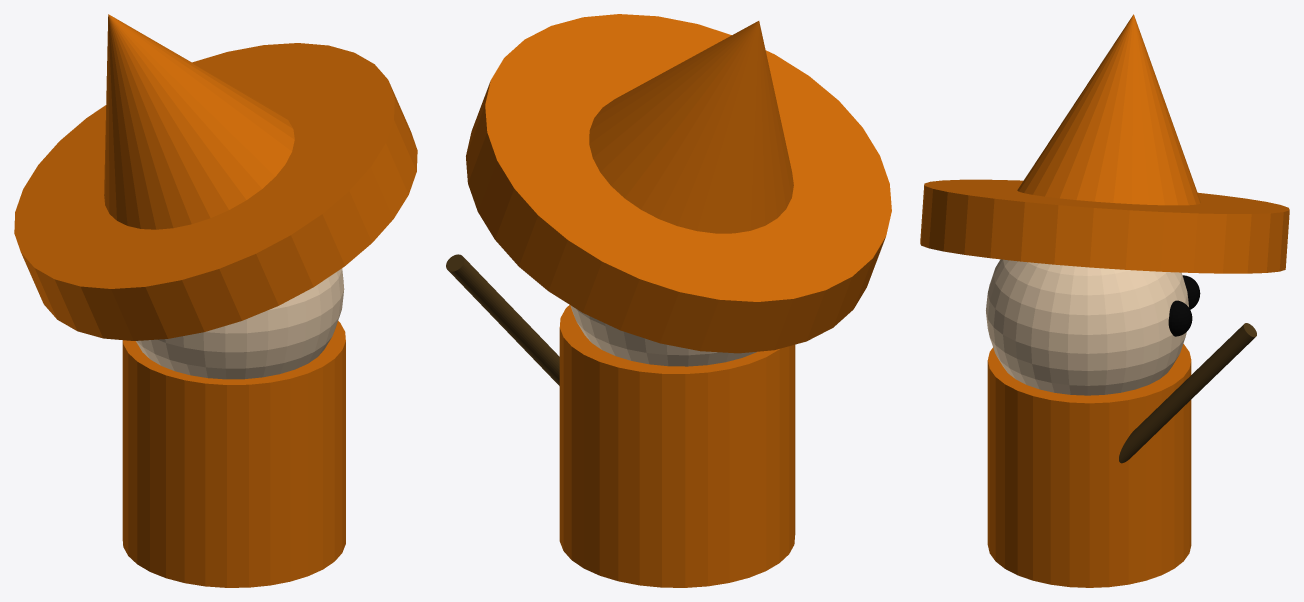
File: wizord_orang.glb
3 renders of one model, left to right at view 1: azimuth 30°, elevation 25°; view 2: azimuth 150°, elevation 25°; view 3: azimuth 270°, elevation 25°, orthographic. The views are drawn at different scales.
Parts seen in each view (by area): view 1: Cylinder.001, Cylinder, Cone, Sphere; view 2: Cylinder.001, Cylinder, Cone, Sphere, Cylinder.002; view 3: Cylinder, Cylinder.001, Sphere, Cone, Cylinder.002, Sphere.002.
Boxes of the visible parts, x1,y1,x2,y2 form: Cylinder.001: (14,43,417,340); Cylinder: (122,321,345,587); Cone: (104,14,294,229); Sphere: (136,268,344,379); Cylinder.001: (466,14,891,353); Cylinder: (559,305,795,587); Cone: (589,21,793,233); Sphere: (570,305,756,366); Cylinder.002: (446,254,559,385); Cylinder: (987,344,1191,587); Cylinder.001: (920,179,1289,273); Sphere: (986,259,1188,395); Cone: (1017,14,1200,205); Cylinder.002: (1119,323,1256,463); Sphere.002: (1168,300,1192,336).
Size of the model in its own units: 3.57 by 5.26 by 3.63.
